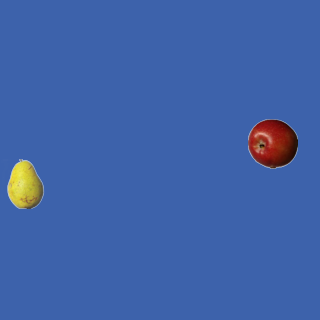Apple Braeburn: (247, 118, 297, 168)
Pear Monster: (0, 158, 50, 208)
